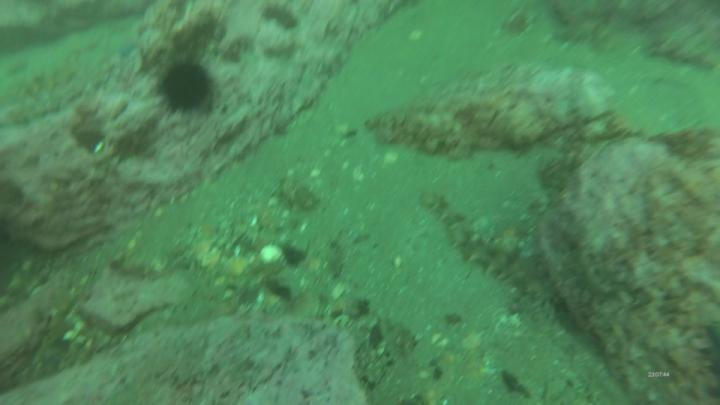echinus: (159, 60, 217, 113)
holothurian: (425, 192, 538, 291)
